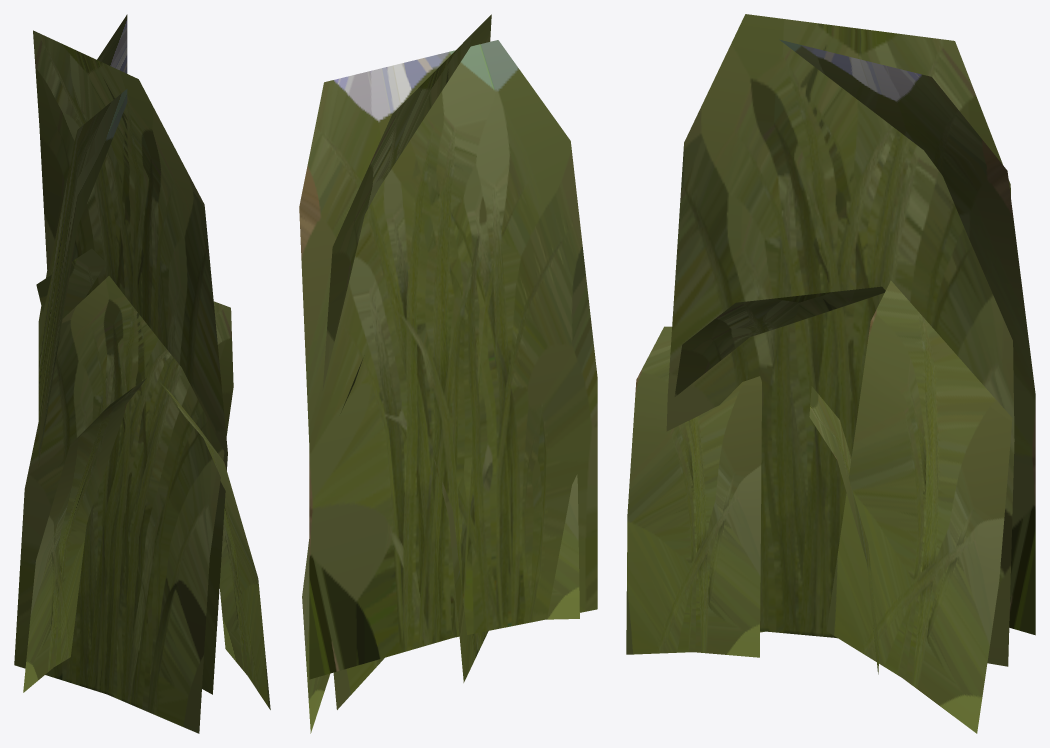
The model's file is GrassTallB_root_afsTREE_xlp.fbx.
3 renders of one model, left to right at view 1: azimuth 30°, elevation 25°; view 2: azimuth 150°, elevation 25°; view 3: azimuth 270°, elevation 25°, orthographic. The views are drawn at different scales.
Visible parts, largest first — view 1: GrassA01.002_leaf_xt02_xw05; view 2: GrassA01.002_leaf_xt02_xw05; view 3: GrassA01.002_leaf_xt02_xw05.
Boxes of the visible parts, bbox=[...] form: GrassA01.002_leaf_xt02_xw05: bbox=[14, 14, 270, 733]; GrassA01.002_leaf_xt02_xw05: bbox=[299, 14, 597, 733]; GrassA01.002_leaf_xt02_xw05: bbox=[626, 14, 1035, 733].
Bounding box in the file's own units: 0.2669 × 0.7636 × 0.414.
